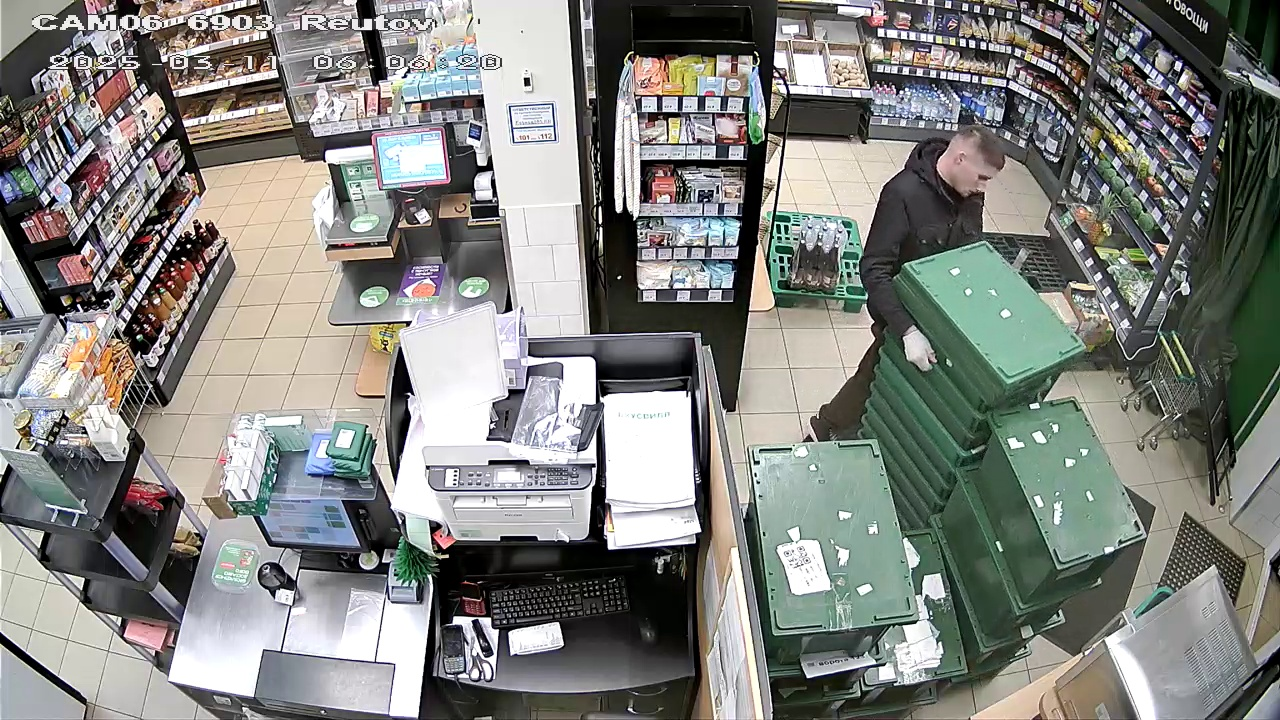Human: (812, 99, 1002, 453)
pallet: (981, 231, 1110, 363)
